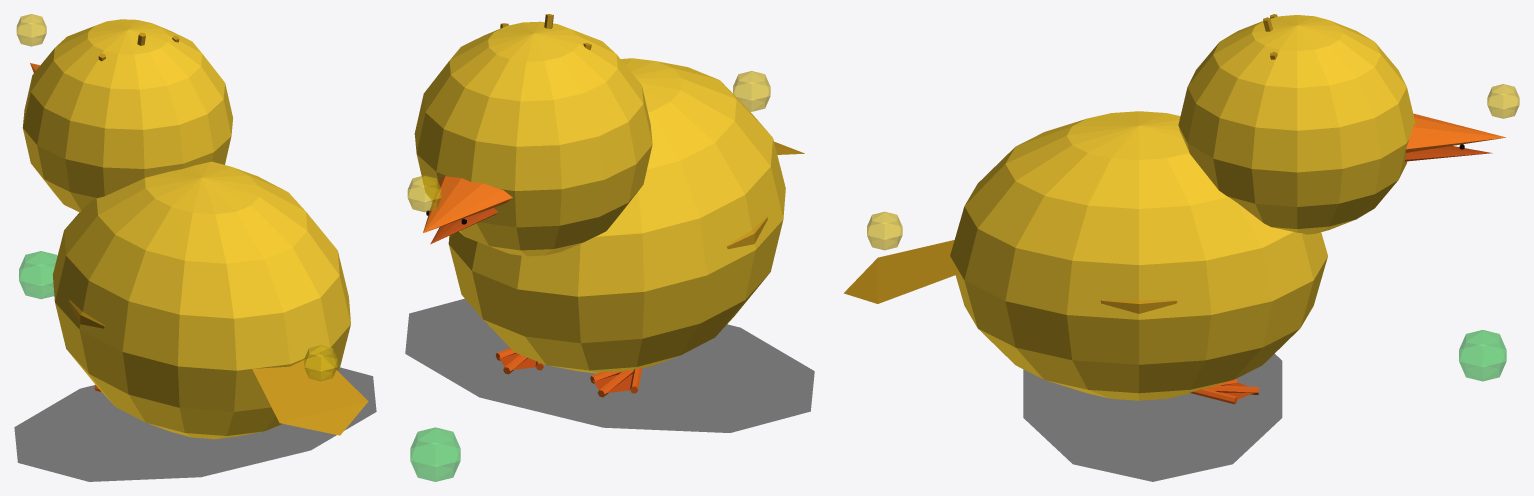
Rendered from duckling.obj.
The picture shows the model from 3 angles, left to right: view 1: azimuth 30°, elevation 25°; view 2: azimuth 150°, elevation 25°; view 3: azimuth 270°, elevation 25°; orthographic projection. The views are drawn at different scales.
Parts seen in each view (by area): view 1: Duckling_fluffy_round_body_yellow, Duckling_big_round_head, Soft_shadow_under_duckling, Duckling_tiny_tail_fluff, Guide_Dog_Sniff_Duckling_Point, Guide_Duckling_Follow_Target, Guide_Duckling_Look_Target; view 2: Duckling_fluffy_round_body_yellow, Duckling_big_round_head, Soft_shadow_under_duckling, Duckling_small_orange_bill_upper, Guide_Dog_Sniff_Duckling_Point, Guide_Duckling_Follow_Target, Guide_Duckling_Look_Target, Duckling_lower_bill, Left_duckling_fluffy_wing_nub; view 3: Duckling_fluffy_round_body_yellow, Duckling_big_round_head, Soft_shadow_under_duckling, Duckling_tiny_tail_fluff, Guide_Dog_Sniff_Duckling_Point, Duckling_small_orange_bill_upper, Guide_Duckling_Follow_Target, Guide_Duckling_Look_Target, Duckling_lower_bill.
Part boxes in pixels (x1=…): Duckling_fluffy_round_body_yellow: x1=53, y1=161, x2=350, y2=439; Duckling_big_round_head: x1=22, y1=19, x2=233, y2=212; Soft_shadow_under_duckling: x1=14, y1=367, x2=376, y2=481; Duckling_tiny_tail_fluff: x1=252, y1=353, x2=368, y2=435; Guide_Dog_Sniff_Duckling_Point: x1=19, y1=251, x2=57, y2=298; Guide_Duckling_Follow_Target: x1=304, y1=345, x2=337, y2=381; Guide_Duckling_Look_Target: x1=16, y1=14, x2=46, y2=46; Duckling_fluffy_round_body_yellow: x1=448, y1=58, x2=785, y2=373; Duckling_big_round_head: x1=414, y1=21, x2=652, y2=256; Soft_shadow_under_duckling: x1=405, y1=298, x2=814, y2=432; Duckling_small_orange_bill_upper: x1=423, y1=176, x2=512, y2=232; Guide_Dog_Sniff_Duckling_Point: x1=410, y1=427, x2=460, y2=481; Guide_Duckling_Follow_Target: x1=733, y1=71, x2=770, y2=111; Guide_Duckling_Look_Target: x1=407, y1=175, x2=441, y2=212; Duckling_lower_bill: x1=430, y1=208, x2=498, y2=244; Left_duckling_fluffy_wing_nub: x1=726, y1=216, x2=767, y2=249; Duckling_fluffy_round_body_yellow: x1=950, y1=111, x2=1327, y2=400; Duckling_big_round_head: x1=1178, y1=15, x2=1415, y2=234; Soft_shadow_under_duckling: x1=1023, y1=354, x2=1282, y2=481; Duckling_tiny_tail_fluff: x1=844, y1=240, x2=959, y2=303; Guide_Dog_Sniff_Duckling_Point: x1=1459, y1=330, x2=1506, y2=381; Duckling_small_orange_bill_upper: x1=1405, y1=113, x2=1506, y2=152; Guide_Duckling_Follow_Target: x1=867, y1=211, x2=902, y2=250; Guide_Duckling_Look_Target: x1=1487, y1=84, x2=1519, y2=118; Duckling_lower_bill: x1=1405, y1=146, x2=1492, y2=161.
Size of what is drawn, in the model's own units: 0.638 by 0.602 by 0.9834.
